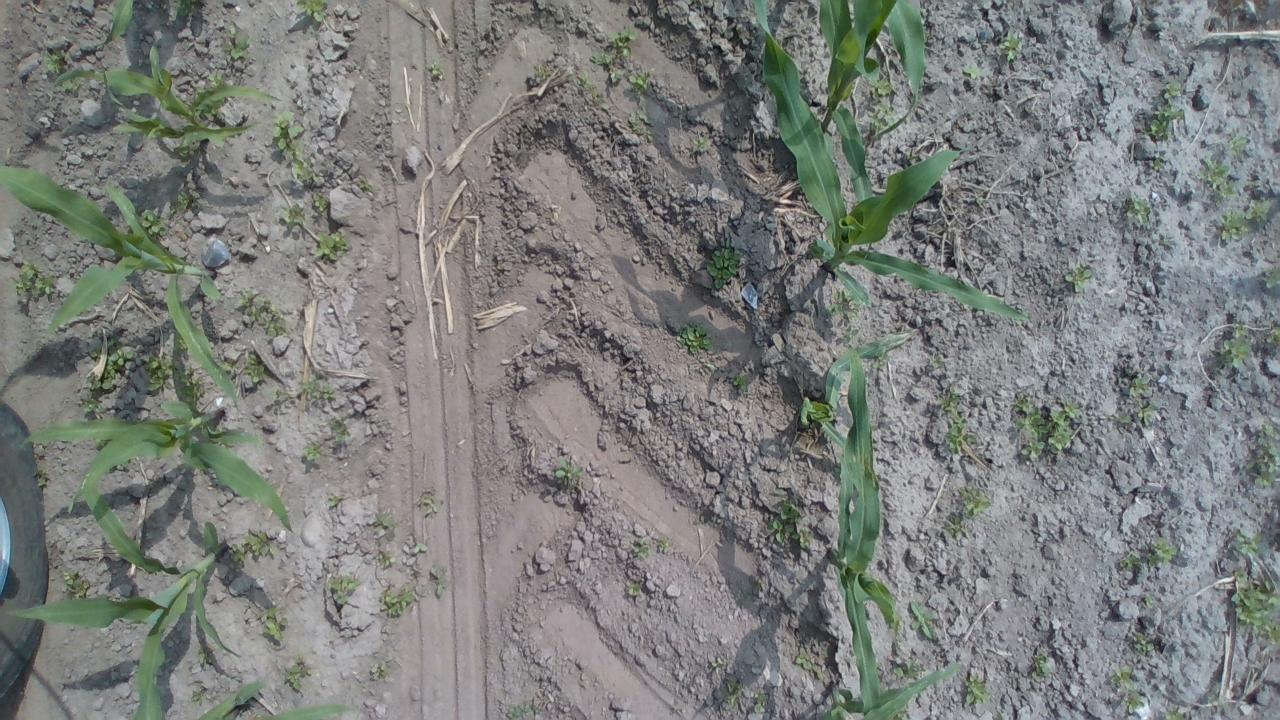Maize: (750, 0, 1030, 325), (0, 161, 247, 411), (3, 480, 240, 720), (16, 399, 296, 532), (826, 347, 897, 720), (53, 46, 282, 148), (818, 0, 928, 138), (801, 332, 912, 454), (825, 657, 959, 720), (187, 682, 350, 720), (98, 0, 132, 45)
Weeds: (1012, 393, 1082, 460), (1231, 567, 1280, 644), (270, 110, 320, 182), (144, 352, 204, 406), (938, 382, 977, 455), (589, 30, 639, 82), (1246, 414, 1280, 490), (238, 290, 288, 336), (705, 239, 746, 292), (867, 70, 899, 133), (1198, 154, 1240, 202), (828, 288, 862, 347), (768, 496, 801, 546), (14, 258, 54, 298), (1219, 321, 1251, 370), (104, 338, 138, 380), (312, 225, 350, 261), (1142, 106, 1182, 140), (909, 600, 940, 642), (136, 206, 176, 238), (676, 322, 716, 354), (379, 584, 415, 618), (959, 485, 992, 522), (254, 606, 288, 641), (80, 380, 113, 416), (1218, 207, 1251, 243), (626, 109, 658, 145), (327, 572, 360, 606), (246, 528, 281, 558), (222, 23, 250, 60), (304, 372, 336, 402), (1146, 536, 1176, 568), (284, 656, 312, 688), (630, 66, 658, 97), (964, 675, 992, 705), (244, 354, 272, 383), (62, 570, 89, 600), (554, 457, 586, 482), (1064, 264, 1094, 290), (997, 30, 1022, 60), (280, 200, 308, 226), (296, 0, 328, 22), (1110, 664, 1137, 690), (890, 660, 924, 680), (1234, 528, 1258, 556), (720, 678, 741, 709), (942, 518, 969, 542), (1244, 198, 1272, 221), (1127, 198, 1151, 224), (430, 567, 448, 600), (330, 415, 352, 441), (176, 189, 202, 210), (1032, 654, 1052, 681), (1227, 131, 1248, 156), (1132, 633, 1156, 654), (173, 140, 200, 158), (44, 50, 64, 74), (1122, 692, 1146, 712), (590, 88, 610, 112), (631, 537, 651, 559), (728, 370, 749, 390), (506, 702, 529, 720), (372, 510, 392, 530), (1120, 551, 1140, 571), (302, 441, 322, 460), (1128, 378, 1148, 397), (962, 62, 983, 80), (35, 463, 50, 488), (1138, 403, 1154, 426), (194, 646, 212, 666), (230, 542, 248, 562), (794, 652, 814, 670), (1164, 80, 1184, 98), (312, 192, 329, 212), (1264, 325, 1280, 346), (175, 0, 196, 16), (1264, 267, 1280, 288), (206, 72, 226, 88), (753, 692, 769, 712), (378, 552, 400, 566), (889, 614, 904, 634), (799, 528, 812, 550), (60, 78, 80, 92), (422, 496, 438, 513), (373, 663, 388, 681), (871, 354, 889, 369), (691, 137, 709, 152), (430, 62, 446, 78), (361, 178, 376, 194), (88, 344, 102, 360), (576, 70, 590, 86), (218, 360, 235, 373), (205, 110, 225, 121), (1164, 709, 1184, 720), (974, 189, 986, 207), (192, 688, 204, 706), (931, 355, 946, 369), (906, 150, 919, 165), (626, 584, 642, 596), (658, 538, 671, 552), (327, 492, 340, 506), (893, 706, 906, 720), (1143, 591, 1154, 607), (413, 542, 427, 553), (1117, 414, 1132, 424), (1151, 158, 1163, 170), (117, 460, 129, 470), (95, 439, 108, 447)
